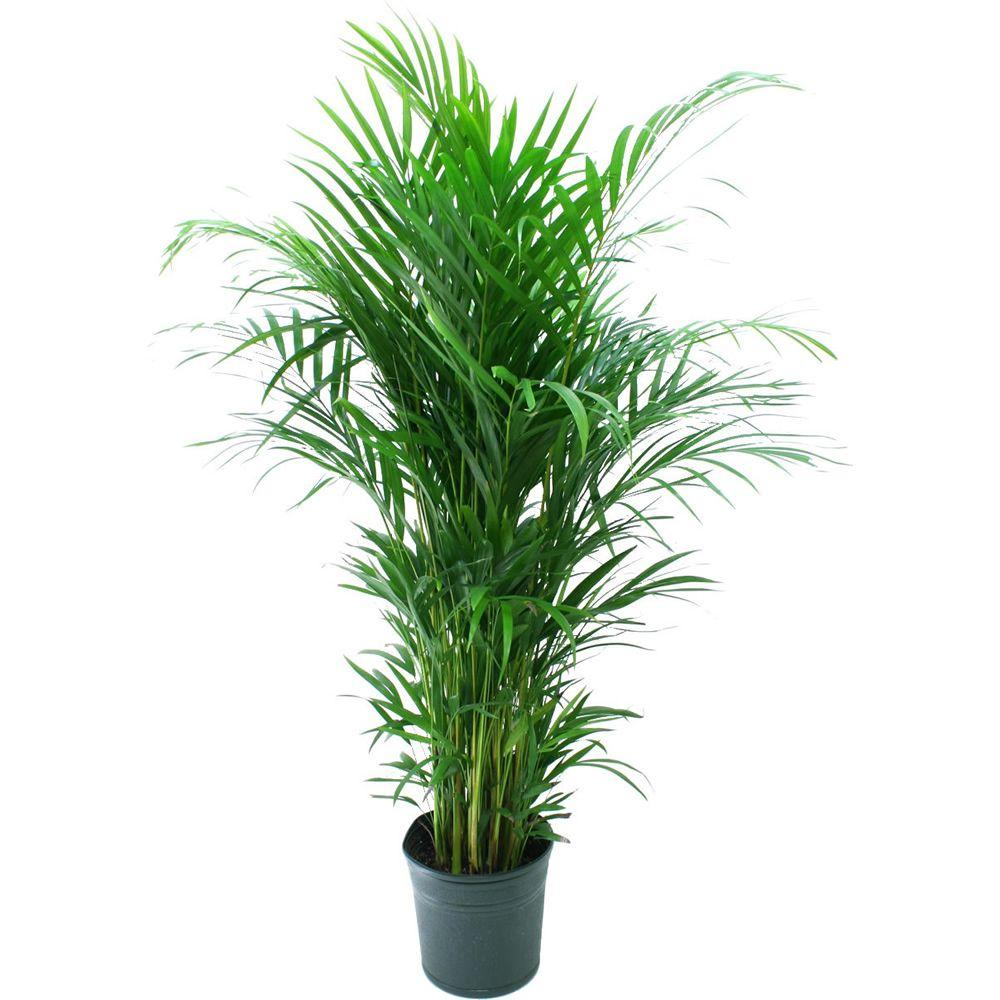tanaman: (153, 12, 829, 993)
